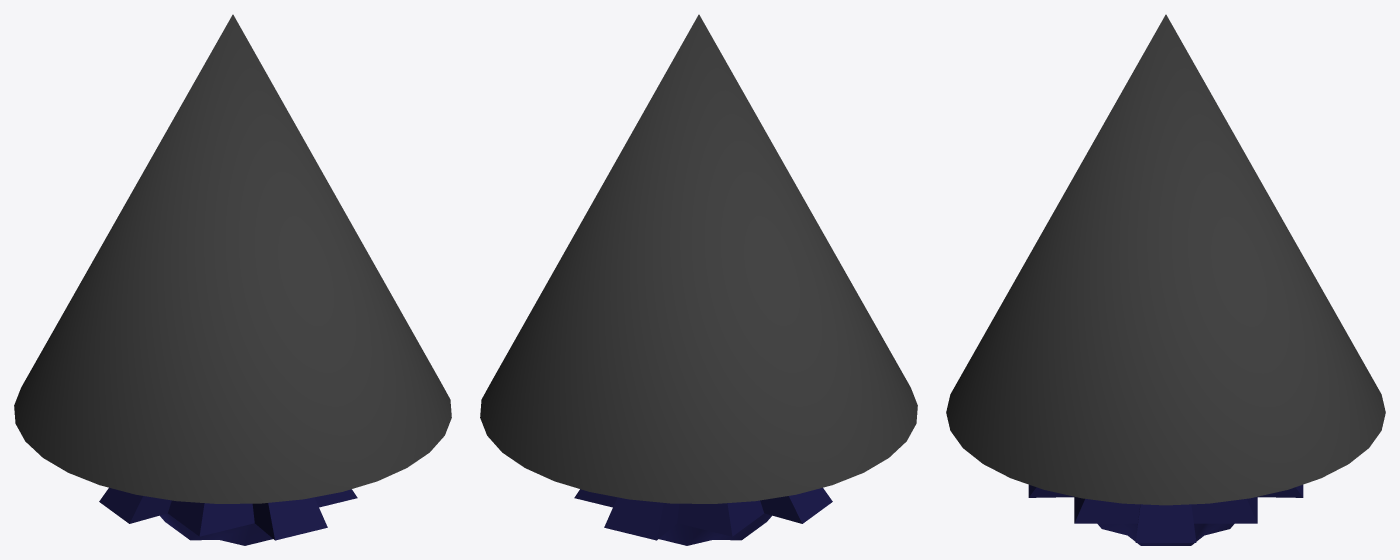
File: bigdrill.fbx
3 renders of one model, left to right at view 1: azimuth 30°, elevation 25°; view 2: azimuth 150°, elevation 25°; view 3: azimuth 270°, elevation 25°, orthographic.
Visible parts, largest first — view 1: bigdrill; view 2: bigdrill; view 3: bigdrill.
Part boxes in pixels (box(x1,y1,x2,y2)): bigdrill: box(14, 14, 451, 545); bigdrill: box(480, 14, 917, 545); bigdrill: box(946, 14, 1385, 545).
Size of the model in its own units: 5.76 by 7.3 by 5.76.
